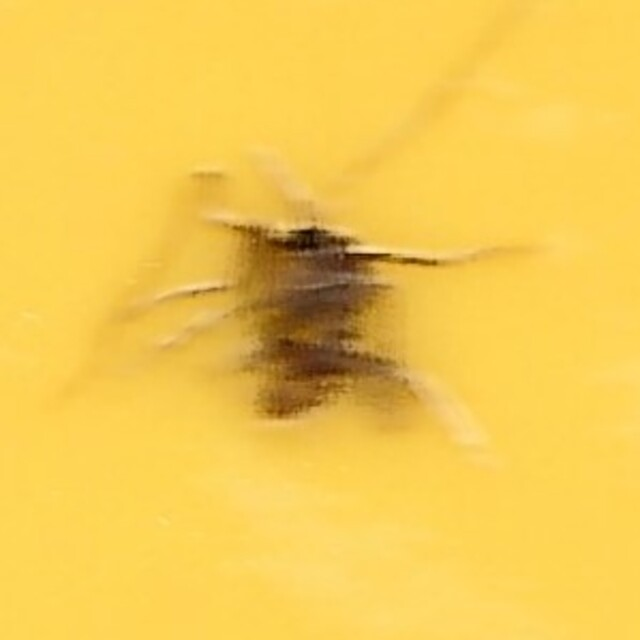Nematocera: (214, 201, 426, 439)
